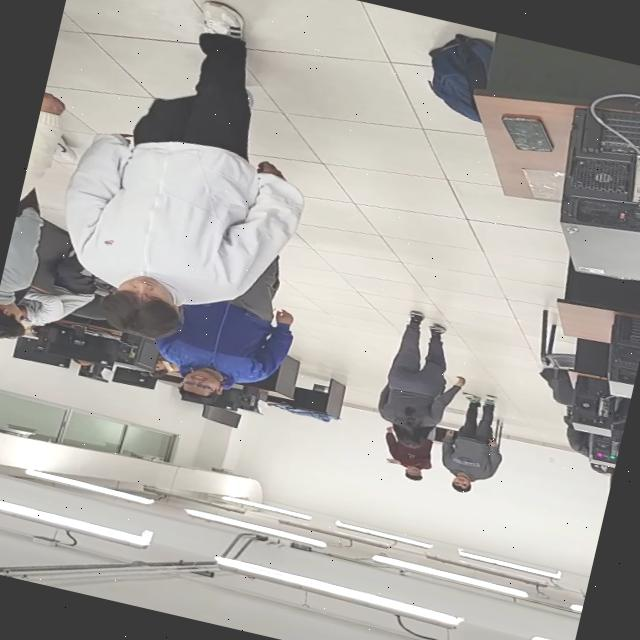Persona: (29, 0, 331, 365), (162, 278, 318, 424), (364, 300, 477, 456), (438, 389, 518, 504), (368, 418, 441, 488)
